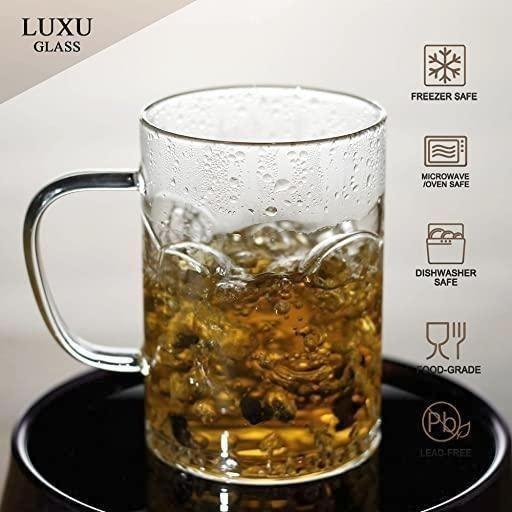glass-mug: (15, 76, 396, 494)
